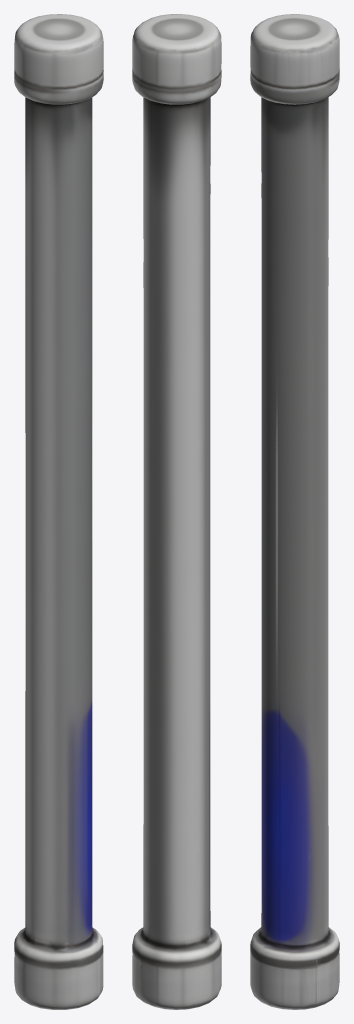
File: Meshy_AI_rotatorhammer_stick_0108133643_texture.fbx
3 views of the same model, side by side, from view 1: azimuth 90°, elevation 25°; view 2: azimuth 150°, elevation 25°; view 3: azimuth 330°, elevation 25° (orthographic).
Visible parts, largest first — view 1: Mesh0; view 2: Mesh0; view 3: Mesh0.
Boxes of the visible parts, bbox=[...] form: Mesh0: bbox=[14, 14, 103, 1009]; Mesh0: bbox=[132, 14, 221, 1009]; Mesh0: bbox=[250, 14, 339, 1009].
Size of the model in its own units: 16.06 by 191 by 16.06.
1 material, 1 textured.
